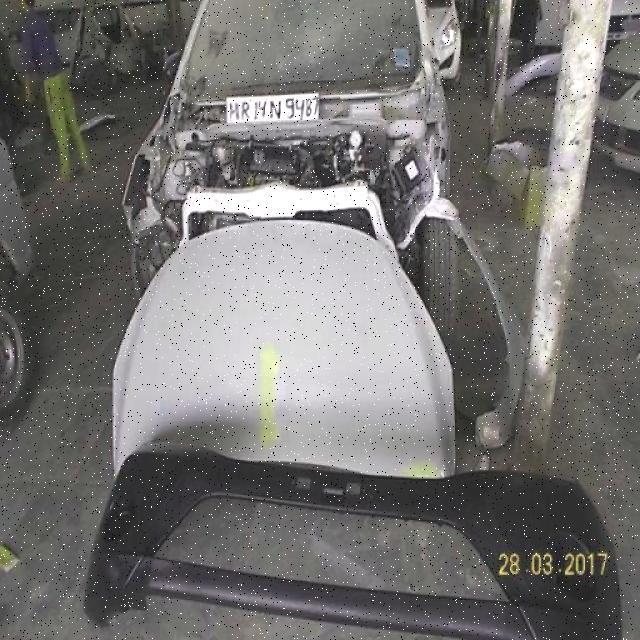car damage: (112, 100, 459, 237)
